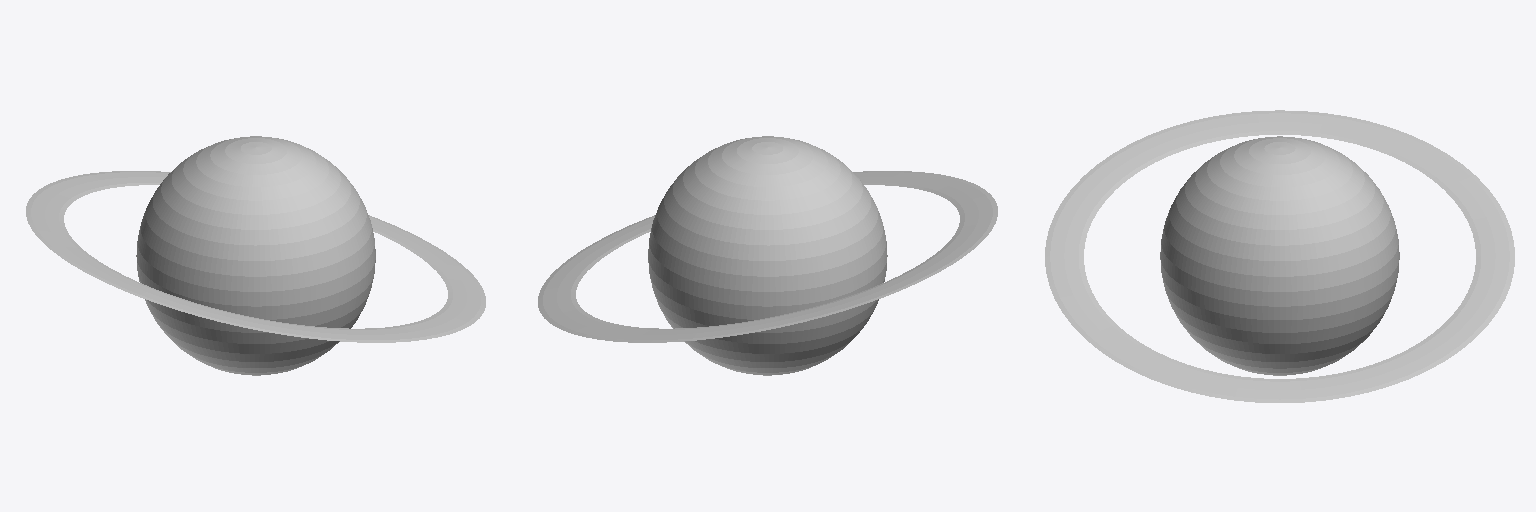
Rendered from Space.obj.
3 views of the same model, side by side, from view 1: azimuth 30°, elevation 25°; view 2: azimuth 150°, elevation 25°; view 3: azimuth 270°, elevation 25° (orthographic).
Visible parts, largest first — view 1: Sphere_Material.002_0, Circle_ring_0; view 2: Sphere_Material.002_0, Circle_ring_0; view 3: Sphere_Material.002_0, Circle_ring_0.
Part boxes in pixels (left/top/right/bottom): Sphere_Material.002_0: left=136, top=136, right=375, bottom=375; Circle_ring_0: left=26, top=171, right=485, bottom=342; Sphere_Material.002_0: left=648, top=136, right=887, bottom=375; Circle_ring_0: left=538, top=171, right=997, bottom=342; Sphere_Material.002_0: left=1160, top=136, right=1399, bottom=375; Circle_ring_0: left=1045, top=110, right=1514, bottom=402.
Size of the model in its own units: 382 by 200 by 393.